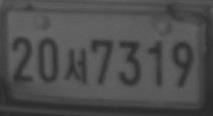0: (37, 38, 60, 82)
1: (145, 41, 169, 87)
2: (11, 36, 33, 83)
3: (118, 39, 142, 86)
7: (90, 40, 114, 85)
9: (171, 40, 195, 88)
서: (62, 48, 88, 84)
